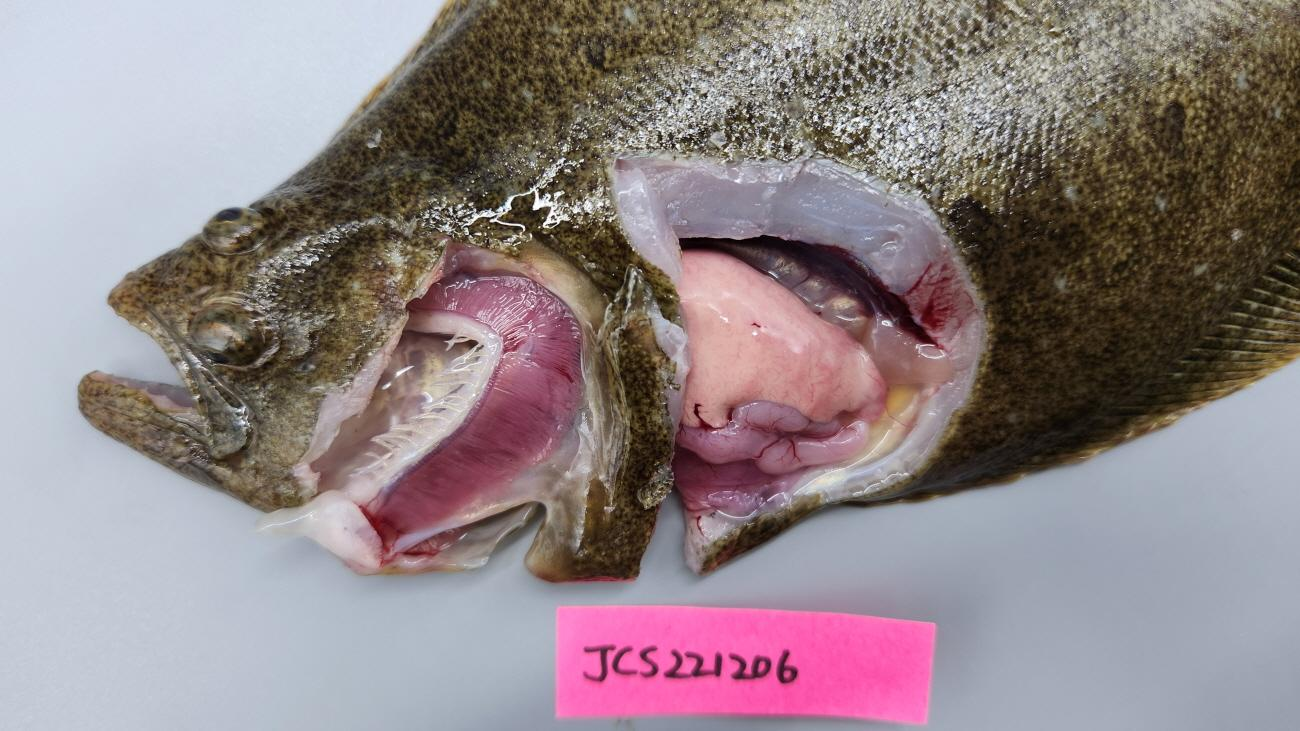VILIC: (861, 377, 887, 423)
